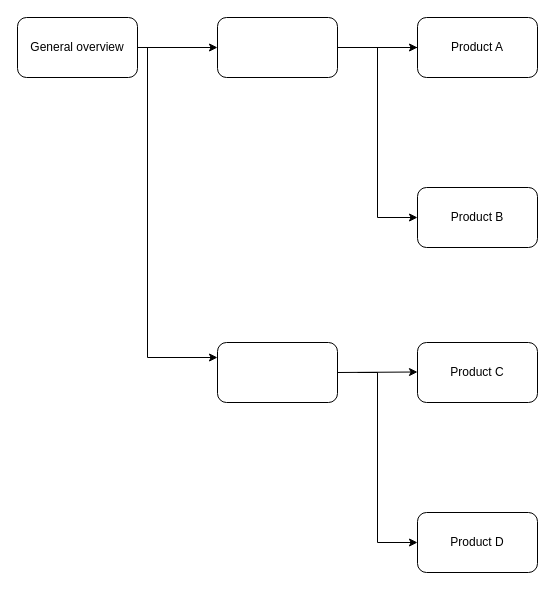
The diagram is 555 pixels wide and 590 high, and some of its shapes have lost their labels. Here are the shapes that lost their labels. From the top down, the centre of each, then its label:
At point (277, 47): "Product Category A".
At point (277, 372): "Product Category B".
